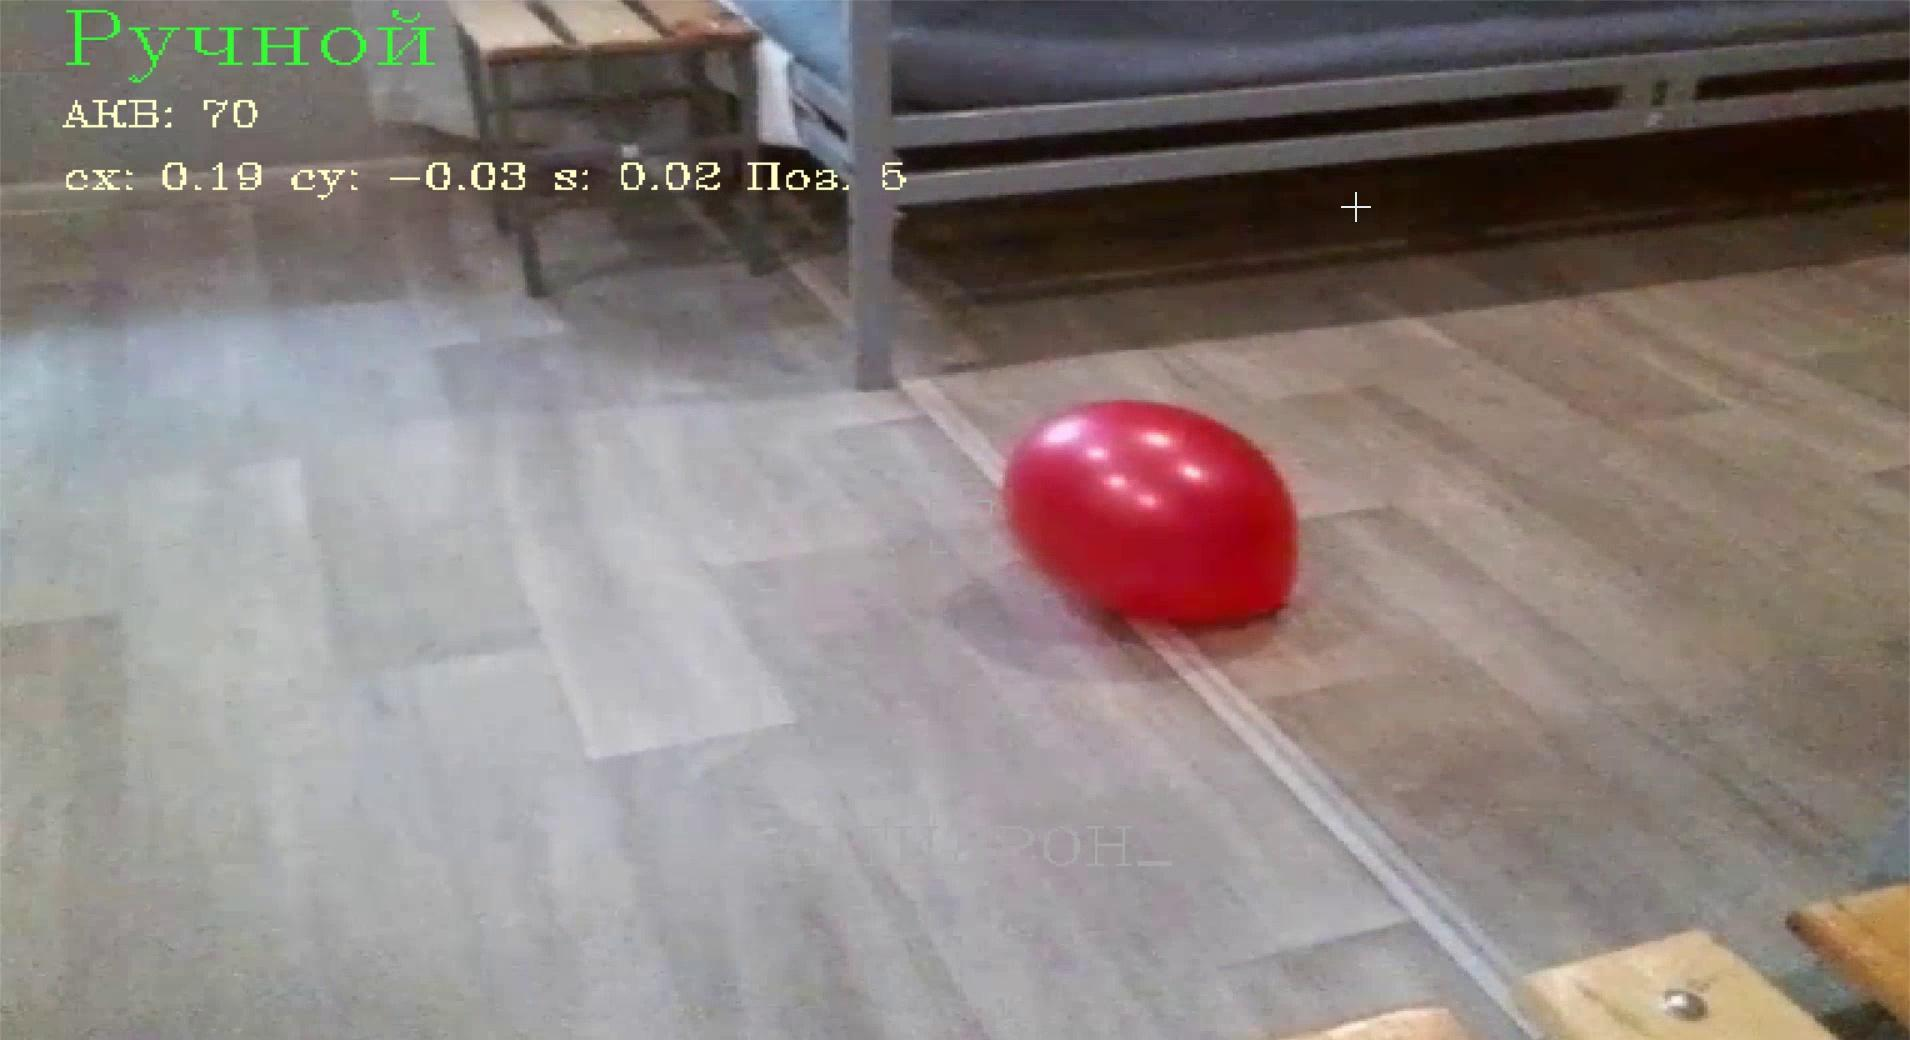red: (1005, 397, 1301, 630)
